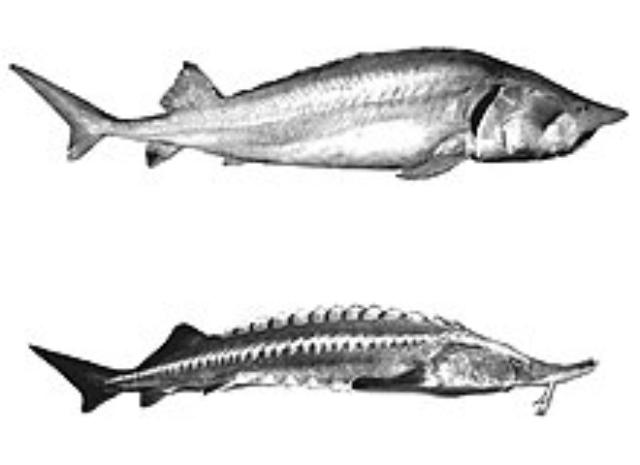Sirip Anal: (138, 132, 180, 180), (130, 384, 168, 414)
Sirip Dada: (348, 360, 440, 408), (381, 150, 477, 188)
Sirip Ekor: (5, 55, 121, 165), (22, 334, 138, 426)
Sirip Perut: (196, 374, 256, 414), (217, 146, 261, 178)
Sirip Punggung: (153, 56, 229, 114), (144, 320, 218, 361)
